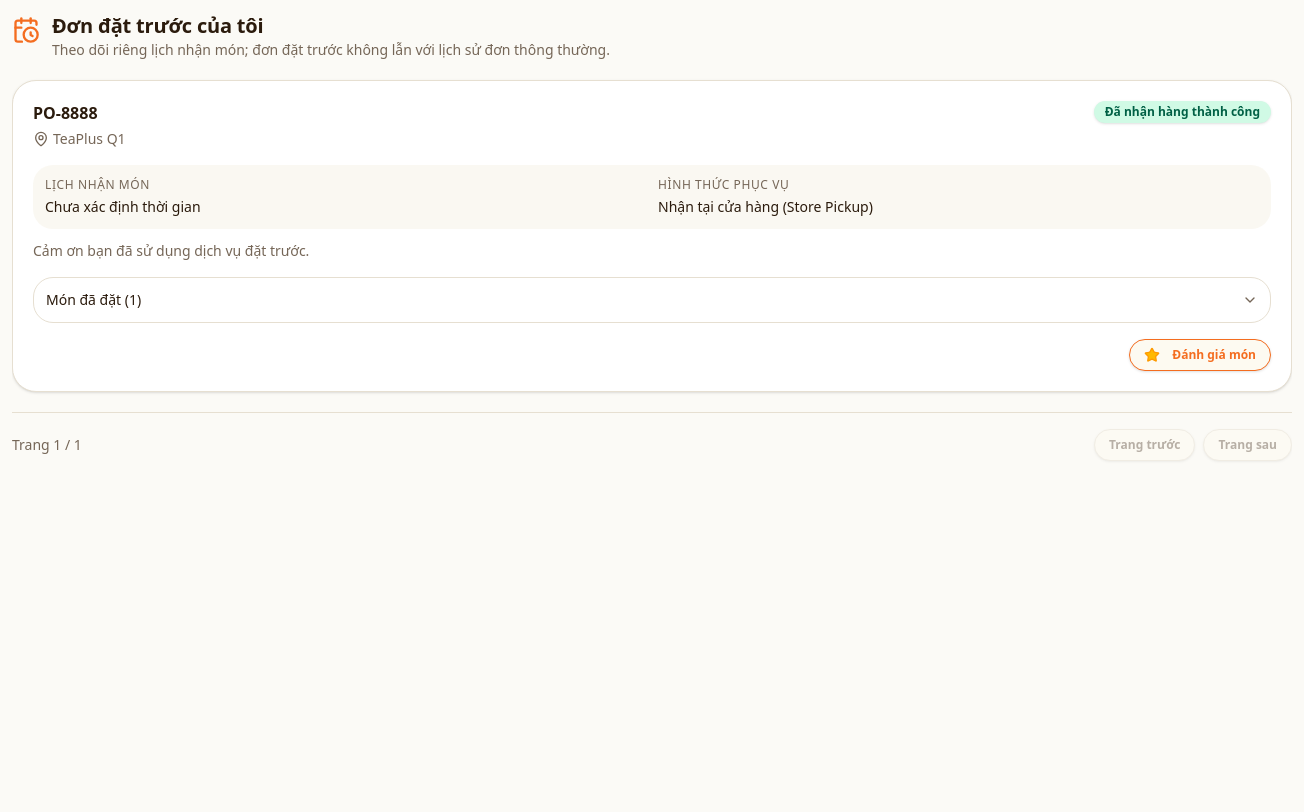
Test: Customer Profile: Order and Preorder Tabs Suite › 4. Component Lifecycle & Isolation Behavior › toggles review panel directly in completed preorder card instead of redirecting to orders tab
The image size is (1304, 812).
// Click to toggle inline review panel
Step 1. Click the button "Đánh giá món" → (1200, 355), box 1129,339 -> 1271,371
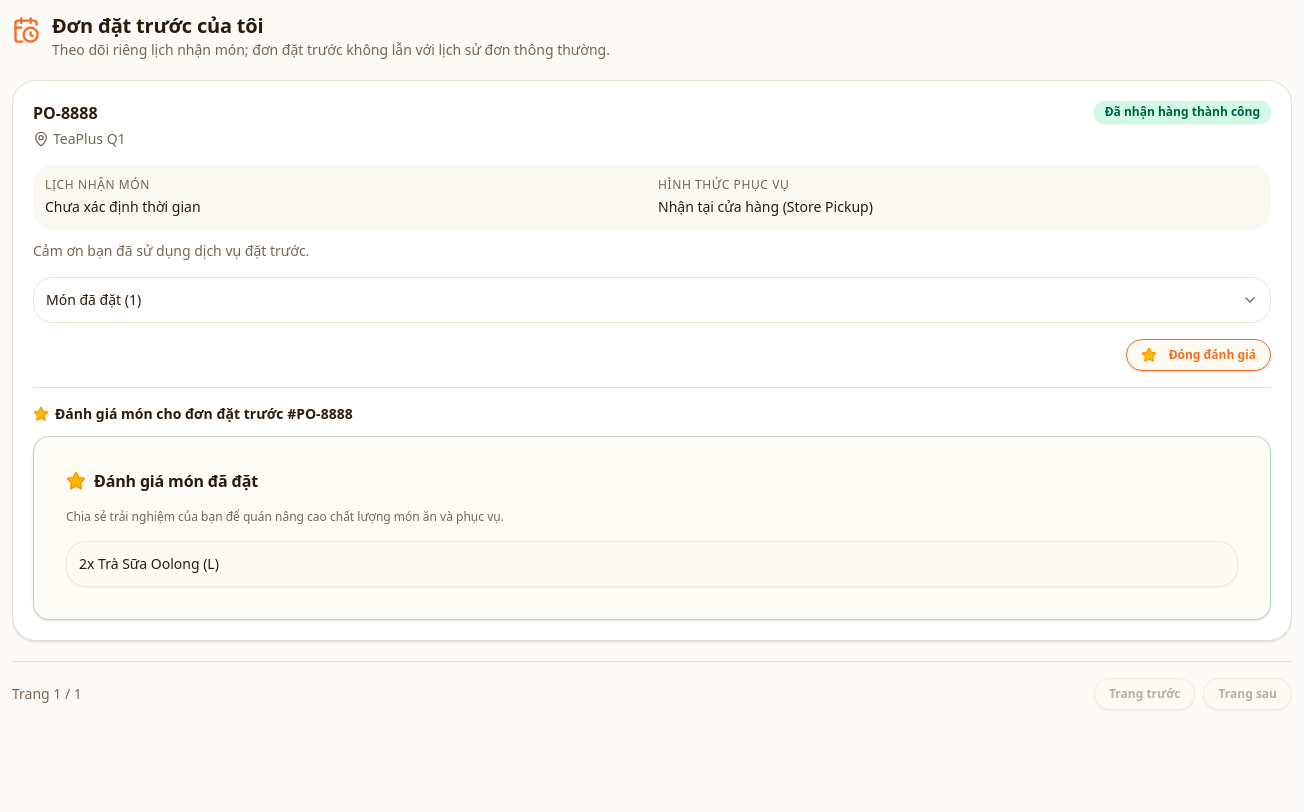
Result: the text "Đánh giá món cho đơn đặt trước #PO-8888" is shown at 55,404 -> 353,424
Result: the text "Trà Sữa Oolong" is shown at 79,554 -> 219,573
Result: the text "Đóng đánh giá" is shown at 1126,339 -> 1271,371
